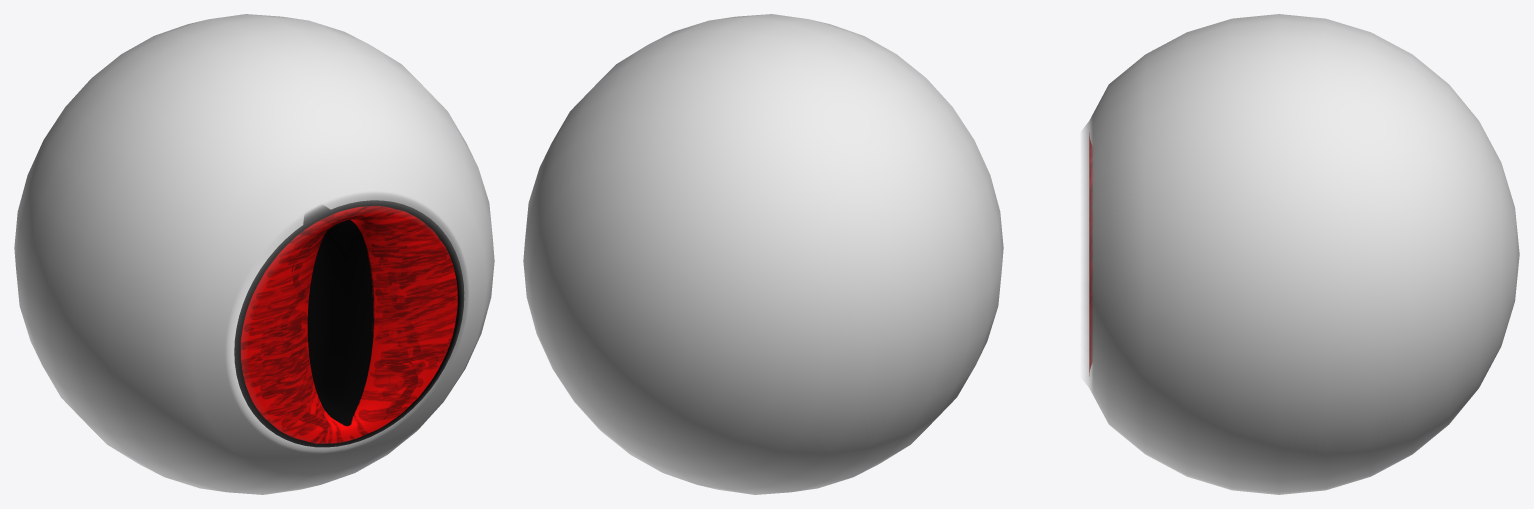
Rendered from eyes3.glb.
3 views of the same model, side by side, from view 1: azimuth 30°, elevation 25°; view 2: azimuth 150°, elevation 25°; view 3: azimuth 270°, elevation 25° (orthographic).
Parts seen in each view (by area): view 1: Object_3, Object_2; view 2: Object_3; view 3: Object_3, Object_2.
Part boxes in pixels (bbox=[...]): Object_3: bbox=[14, 14, 494, 494]; Object_2: bbox=[234, 200, 464, 447]; Object_3: bbox=[523, 14, 1003, 494]; Object_3: bbox=[1082, 14, 1519, 494]; Object_2: bbox=[1089, 133, 1092, 375].
Bounding box in the file's own units: 0.1604 × 0.1604 × 0.1624.
2 materials, 2 textured.
